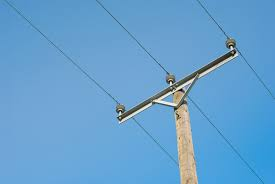utility_pole: (111, 34, 244, 134)
